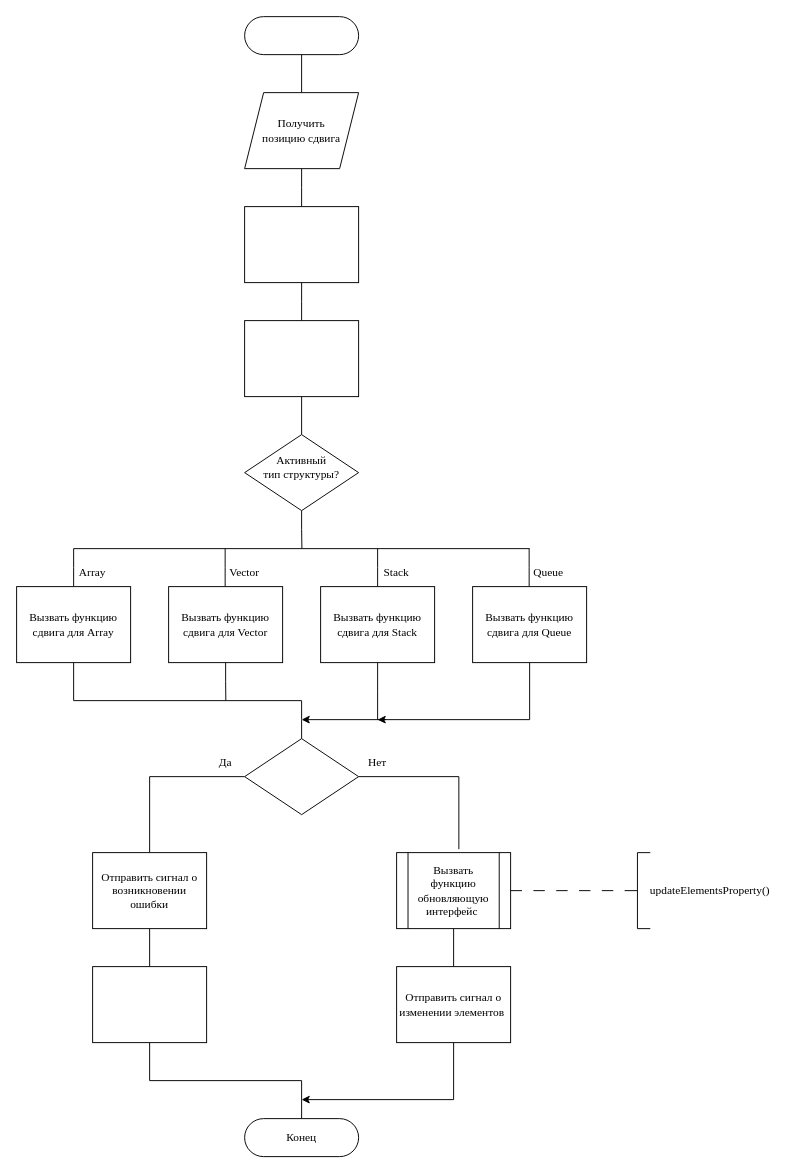
Image size: 787x1173. Some labels were removed from this diagram. The shapes that lost their labels are listed below. From the top down, each one's centre as x and y in pixels, then its label:
At point 301,35: "Начало".
At point 301,244: "Блок обработки ошибок".
At point 301,358: "Определить активную структуру".
At point 301,776: "Была ли ошибка?".
At point 149,1004: "Принудительно завершить процедуру".
